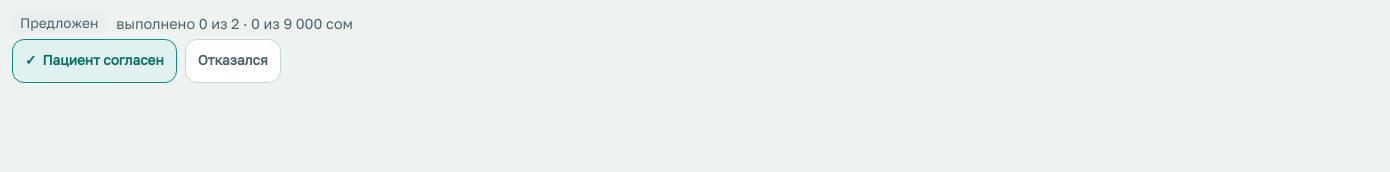
Test: редактор плана: «Пациент согласен» → Согласован, «Снять отметку», «Отказался»
Later steps or results of the test are not shown.
Expected: the element named "Статус плана лечения" shows "Предложен", [20,15,98,31]
Click the button "✓ Пациент согласен".
click(94, 61)  # box [12,39,177,83]
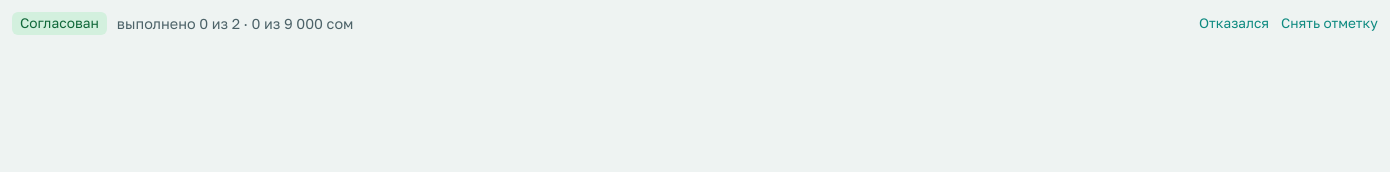
Now the element named "Статус плана лечения" shows "Согласован", box [20,15,99,31]
Click the button "Снять отметку".
click(1330, 23)  # box [1281,13,1378,34]
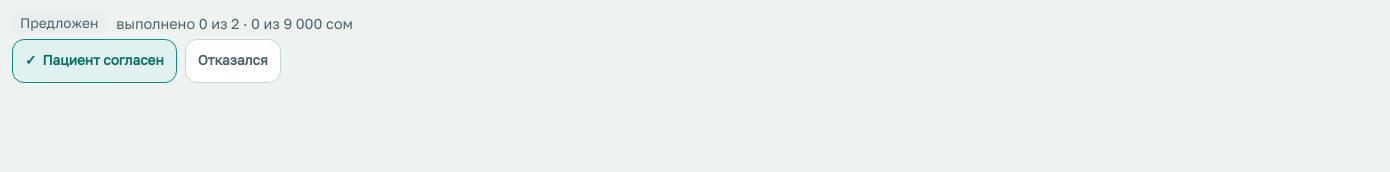
Now the element named "Статус плана лечения" shows "Предложен", box [20,15,98,31]
